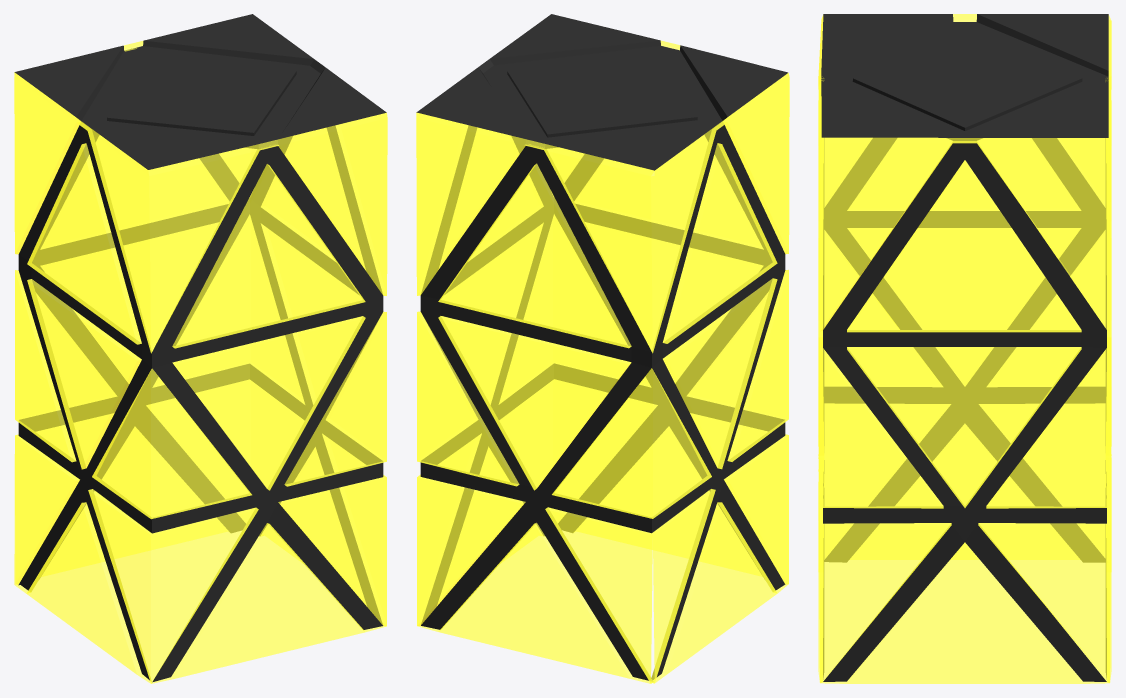
Rendered from yellowGlassBuilding.fbx.
3 views of the same model, side by side, from view 1: azimuth 30°, elevation 25°; view 2: azimuth 150°, elevation 25°; view 3: azimuth 270°, elevation 25° (orthographic). The views are drawn at different scales.
Visible parts, largest first — view 1: yellowGlassBuilding; view 2: yellowGlassBuilding; view 3: yellowGlassBuilding.
Boxes of the visible parts, x1,y1,x2,y2 form: yellowGlassBuilding: [14, 14, 387, 683]; yellowGlassBuilding: [416, 14, 789, 683]; yellowGlassBuilding: [818, 14, 1111, 683].
Size of the model in its own units: 1553 by 3192 by 1552.
